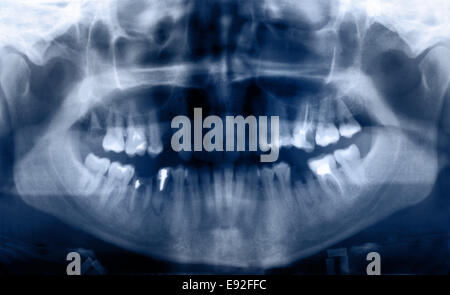canine: (184, 163, 204, 223), (245, 162, 260, 231)
incisor: (197, 165, 217, 225), (233, 162, 248, 231), (211, 162, 226, 226), (221, 161, 236, 220)
molar: (306, 151, 348, 201), (98, 160, 134, 218), (75, 153, 115, 200), (311, 95, 343, 148), (95, 104, 127, 155), (333, 143, 370, 187), (122, 102, 151, 158), (288, 94, 315, 154), (334, 87, 364, 140)
premolar: (254, 162, 278, 223), (169, 160, 189, 228), (147, 101, 165, 158), (273, 158, 294, 206)
